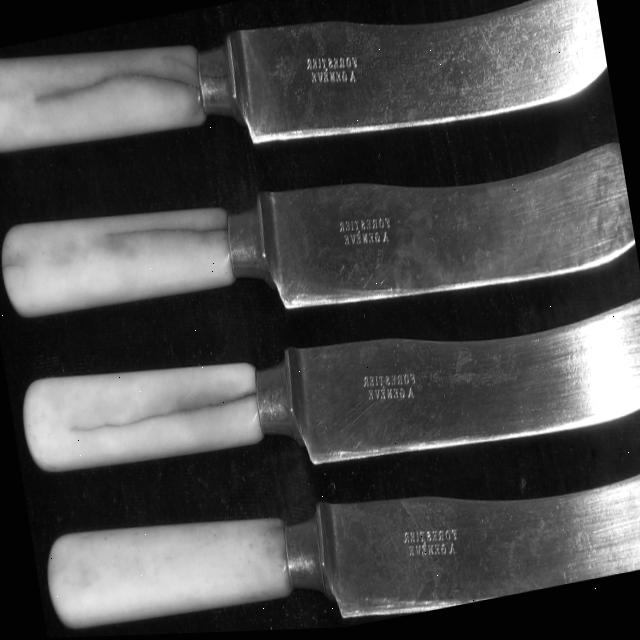knife: (6, 268, 640, 532), (0, 112, 637, 373), (0, 0, 615, 233), (32, 427, 640, 639)
